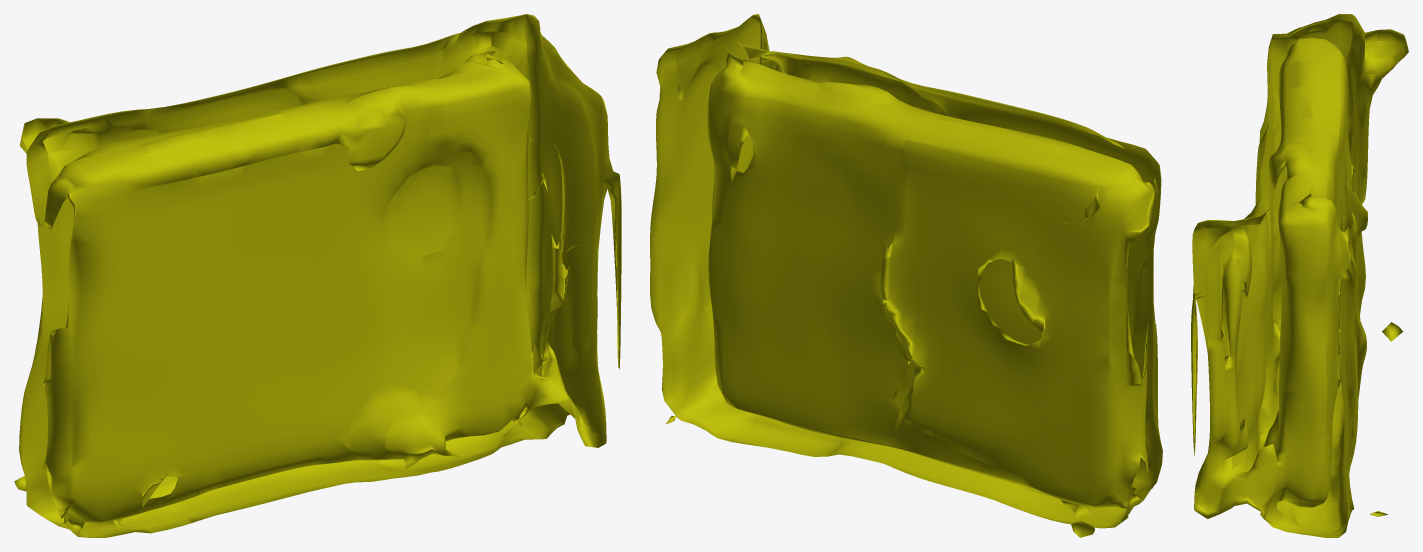
3 renders of one model, left to right at view 1: azimuth 30°, elevation 25°; view 2: azimuth 150°, elevation 25°; view 3: azimuth 270°, elevation 25°, orthographic. The views are drawn at different scales.
Visible parts, largest first — view 1: world; view 2: world; view 3: world.
Boxes of the visible parts, x1,y1,x2,y2 form: world: (14,14,621,537); world: (650,14,1162,537); world: (1191,14,1408,537).
Bounding box in the file's own units: 38.54 × 29.47 × 16.62.
